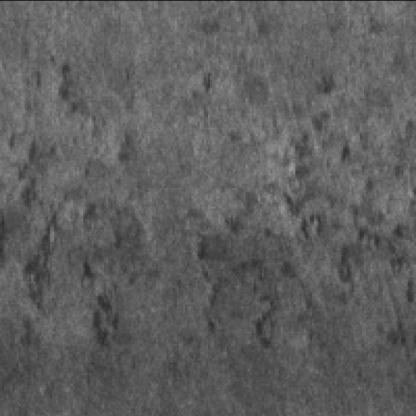rolled-in_scale: (227, 77, 395, 337), (4, 71, 121, 335)
